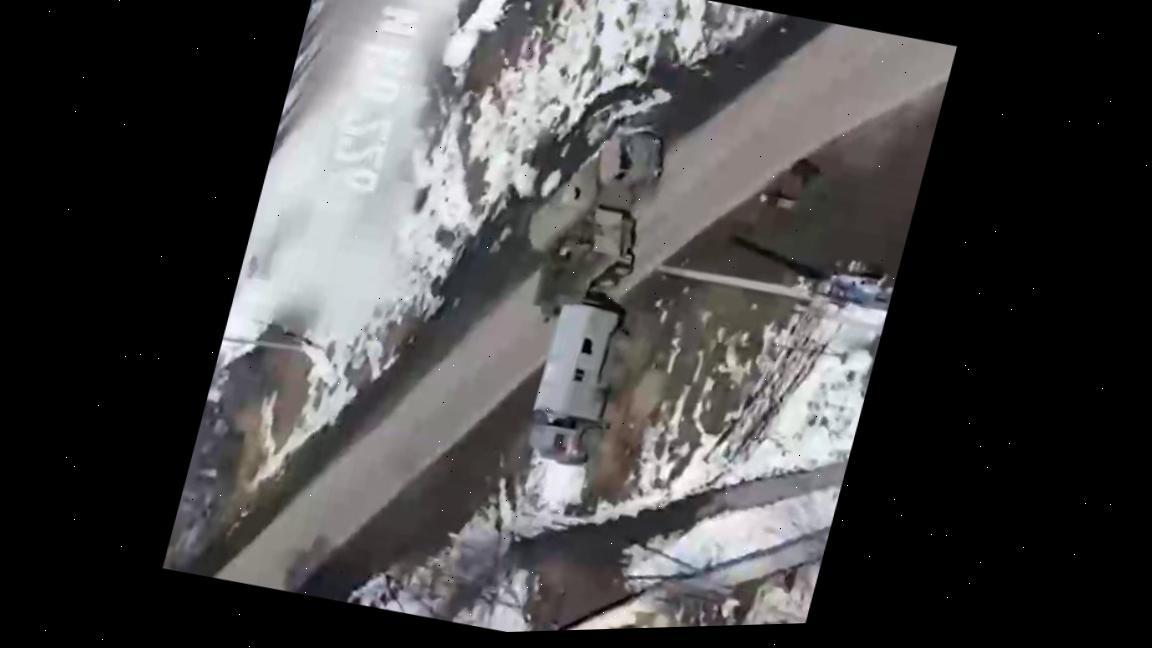truck: (520, 113, 671, 273), (517, 297, 641, 473), (524, 197, 649, 338)
